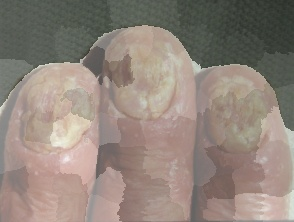Nail_psoriasis: (92, 19, 200, 143), (194, 64, 287, 176), (9, 58, 101, 167)
